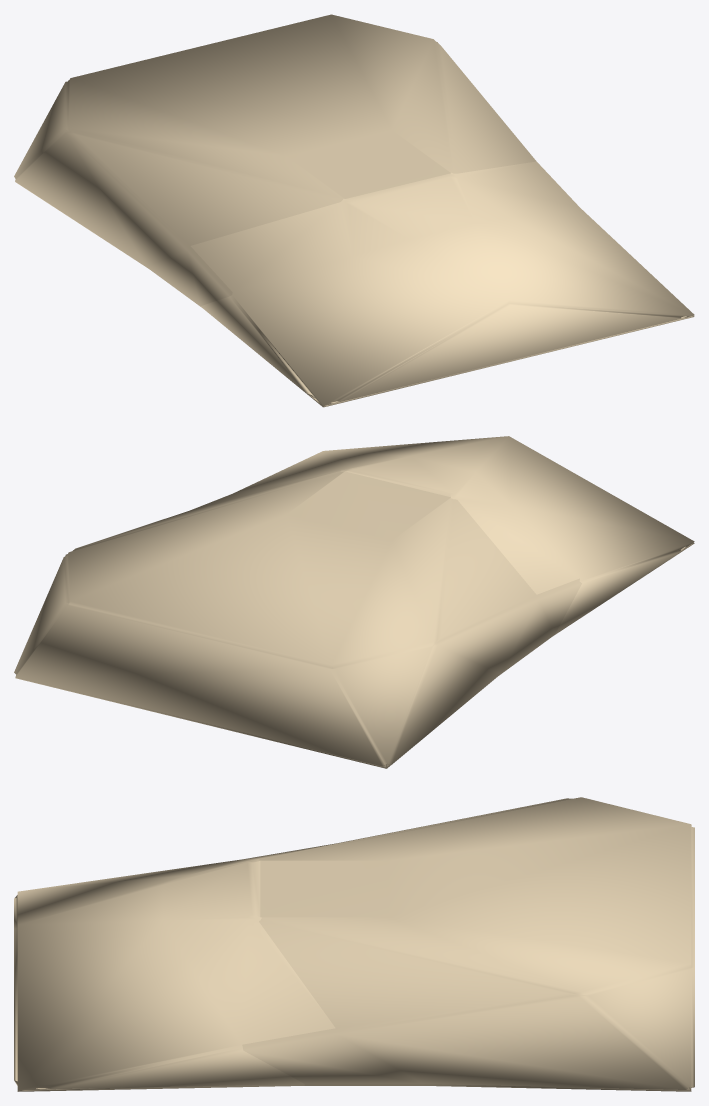
Rendered from wedge_main_tidemark.glb.
3 renders of one model, top to bottom at view 1: azimuth 30°, elevation 25°; view 2: azimuth 150°, elevation 25°; view 3: azimuth 270°, elevation 25°, orthographic. The views are drawn at different scales.
Parts seen in each view (by area): view 1: wedge_main_tidemark; view 2: wedge_main_tidemark; view 3: wedge_main_tidemark.
Part boxes in pixels (box(x1,y1,x2,y2)): wedge_main_tidemark: box(14, 14, 694, 407); wedge_main_tidemark: box(14, 436, 694, 768); wedge_main_tidemark: box(14, 797, 694, 1091).
Bounding box in the file's own units: 3.49 × 0.84 × 5.
